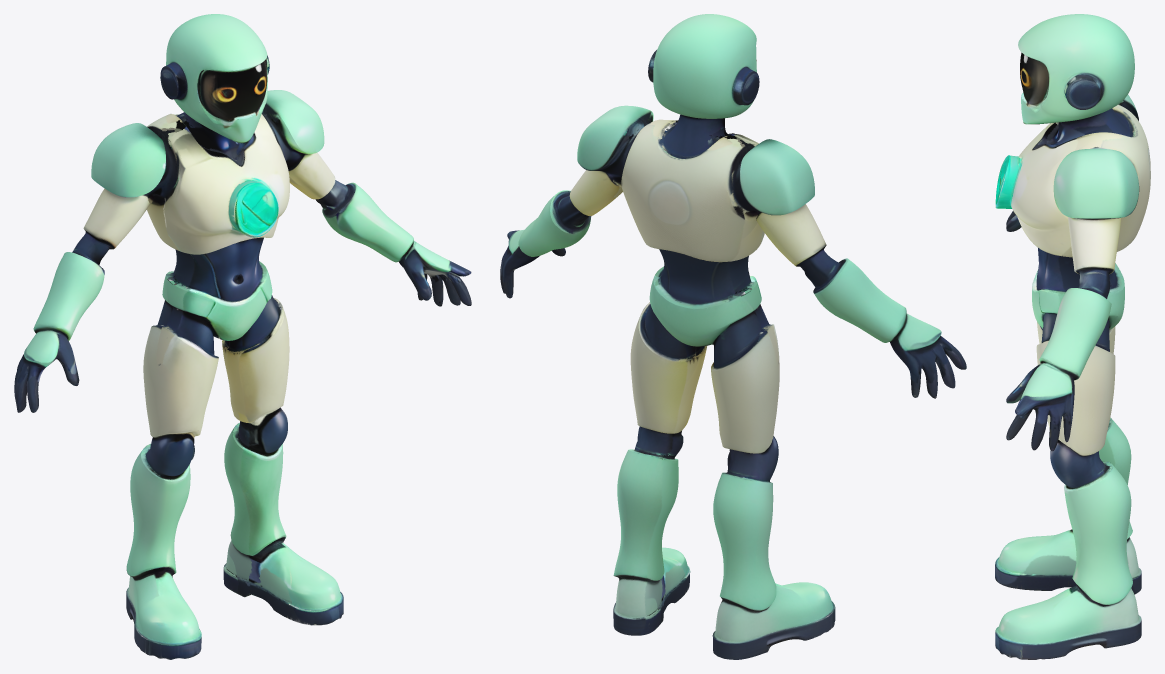
File: base_basic_shaded.glb
The picture shows the model from 3 angles, left to right: view 1: azimuth 30°, elevation 25°; view 2: azimuth 150°, elevation 25°; view 3: azimuth 270°, elevation 25°; orthographic projection. The views are drawn at different scales.
Visible parts, largest first — view 1: model; view 2: model; view 3: model.
Boxes of the visible parts, left/top/right/bottom form: model: left=14, top=14, right=471, bottom=659; model: left=500, top=14, right=966, bottom=659; model: left=995, top=14, right=1150, bottom=659.
Size of the model in its own units: 1.5 by 1.9 by 0.4518.
1 material, 1 textured.
